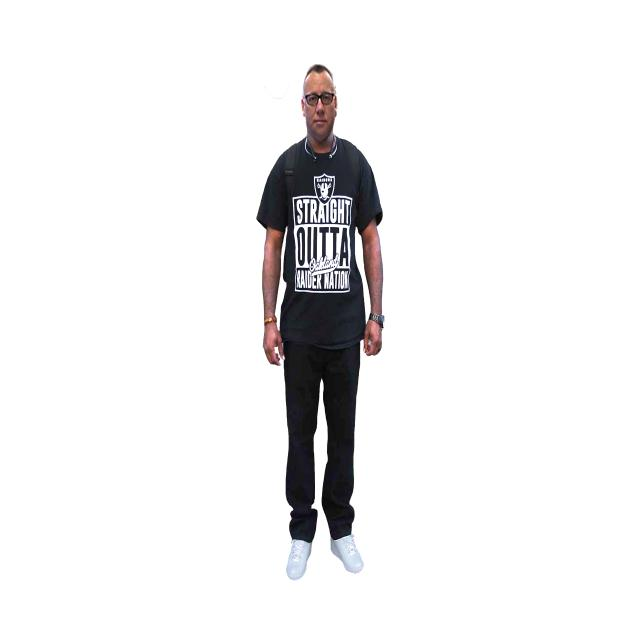jovem: (247, 46, 398, 588)
